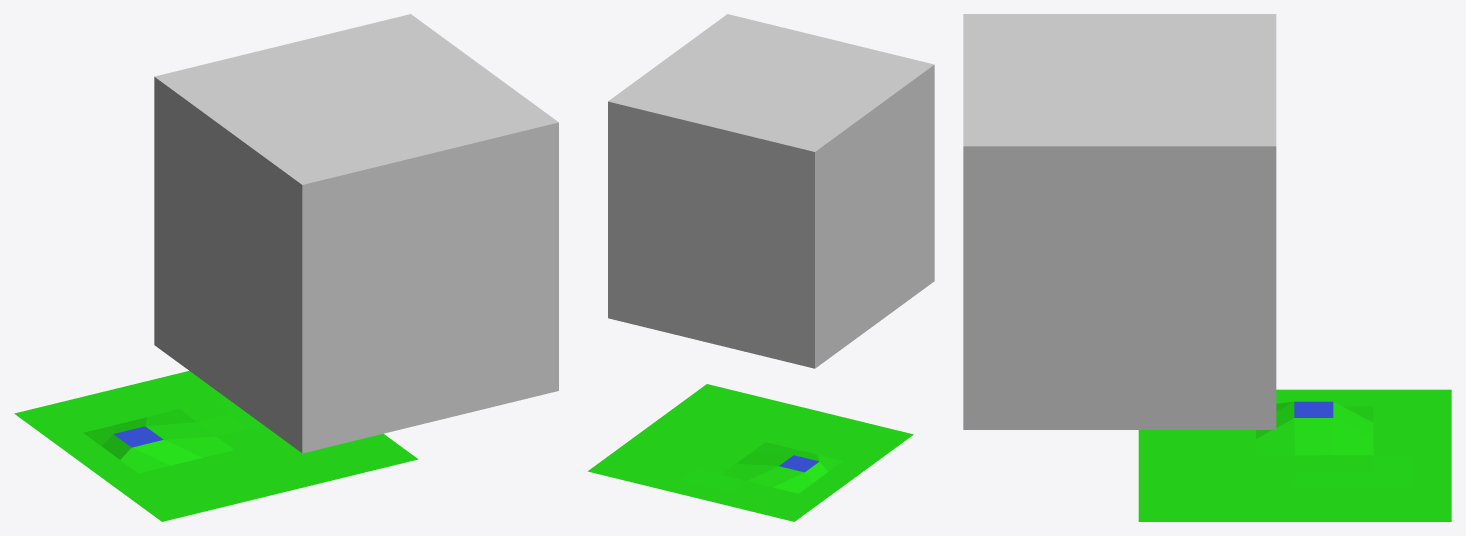
The picture shows the model from 3 angles, left to right: view 1: azimuth 30°, elevation 25°; view 2: azimuth 150°, elevation 25°; view 3: azimuth 270°, elevation 25°; orthographic projection. The views are drawn at different scales.
Parts seen in each view (by area): view 1: Cube, Plane.001; view 2: Cube, Plane.001, Plane; view 3: Cube, Plane.001, Plane.
Part boxes in pixels (box(x1,y1,x2,y2)): Cube: box(154, 14, 558, 453); Plane.001: box(14, 371, 418, 521); Cube: box(608, 14, 934, 368); Plane.001: box(587, 384, 913, 521); Plane: box(779, 455, 819, 472); Cube: box(963, 14, 1276, 429); Plane.001: box(1138, 389, 1451, 521); Plane: box(1294, 401, 1333, 417).
Bounding box in the file's own units: 2.45 × 2.86 × 3.12.
